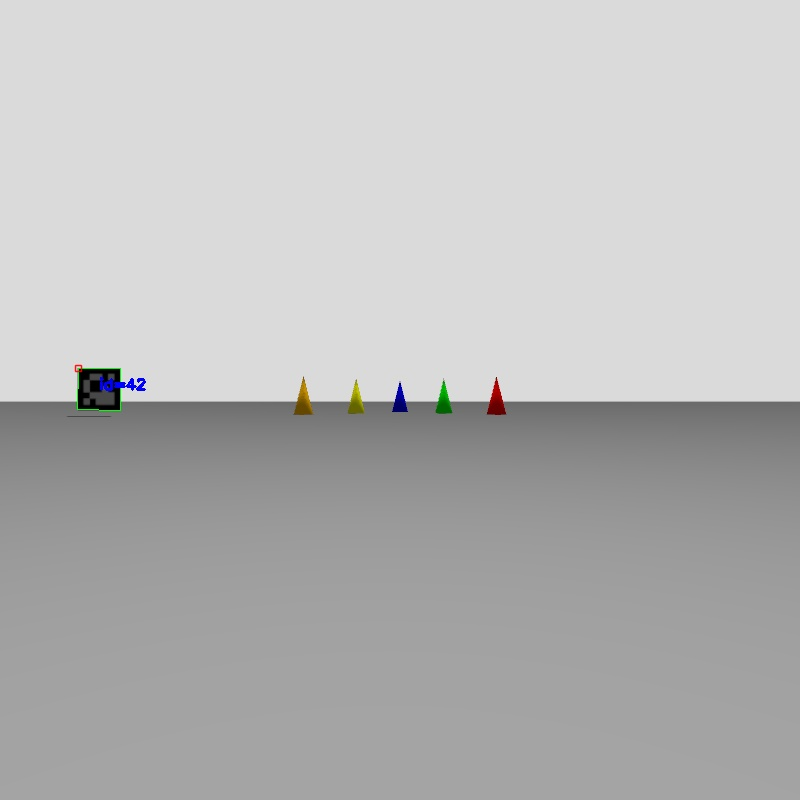Blue_cone: (393, 383, 407, 412)
Green_cone: (435, 381, 451, 413)
Orange_cone: (294, 377, 312, 414)
Red_cone: (487, 378, 506, 415)
Yellow_cone: (348, 380, 364, 413)
